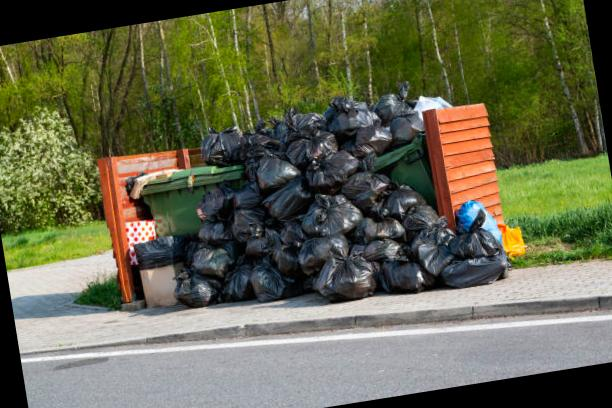trash: (122, 74, 530, 340)
trash_can_overflow: (70, 59, 534, 350)
